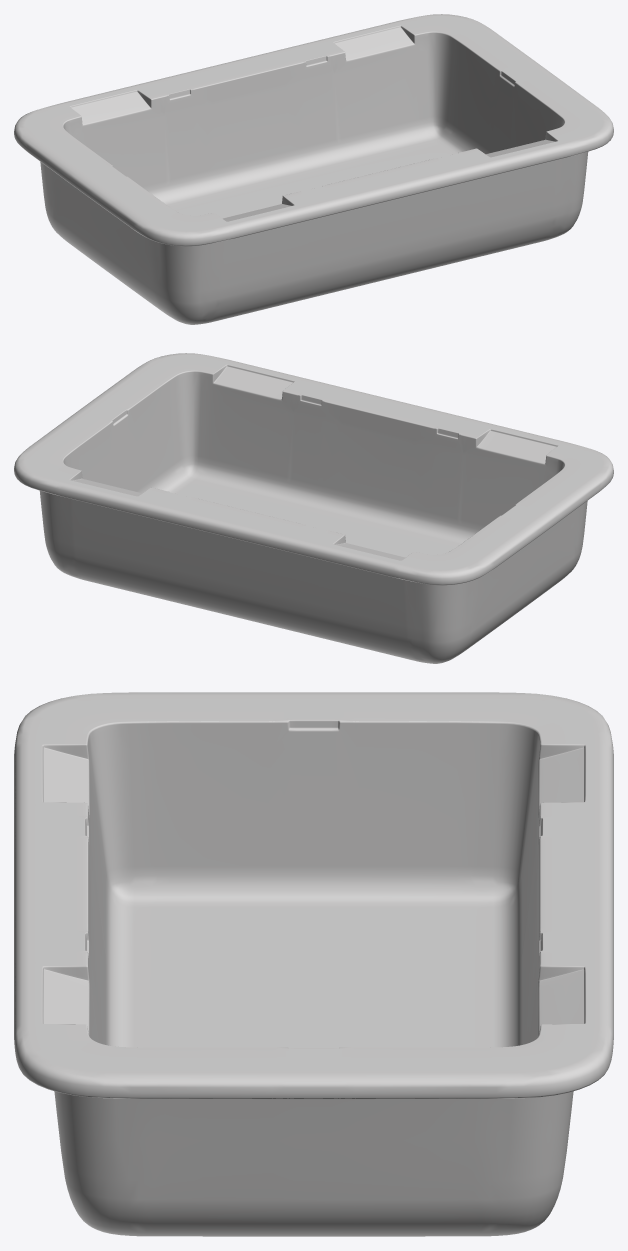
3 views of the same model, one above another, from view 1: azimuth 30°, elevation 25°; view 2: azimuth 150°, elevation 25°; view 3: azimuth 270°, elevation 25° (orthographic). The views are drawn at different scales.
Parts seen in each view (by area): view 1: 271CM1042WH; view 2: 271CM1042WH; view 3: 271CM1042WH.
Boxes of the visible parts, left/top/right/bottom form: 271CM1042WH: left=14, top=14, right=613, bottom=324; 271CM1042WH: left=14, top=353, right=613, bottom=663; 271CM1042WH: left=14, top=692, right=613, bottom=1236.
Bounding box in the file's own units: 0.6134 × 0.1503 × 0.3953.
1 material, 1 textured.
